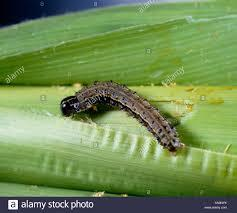fallarmy_worm: (56, 77, 192, 161)
